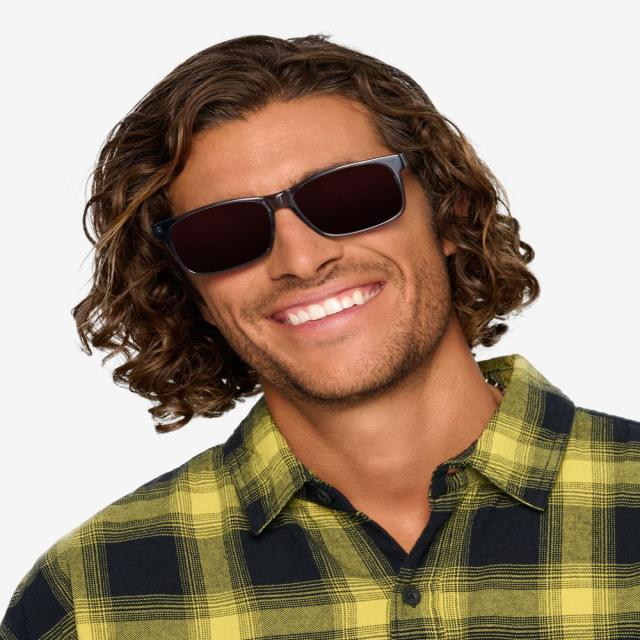2_gafas: (150, 151, 412, 277)
